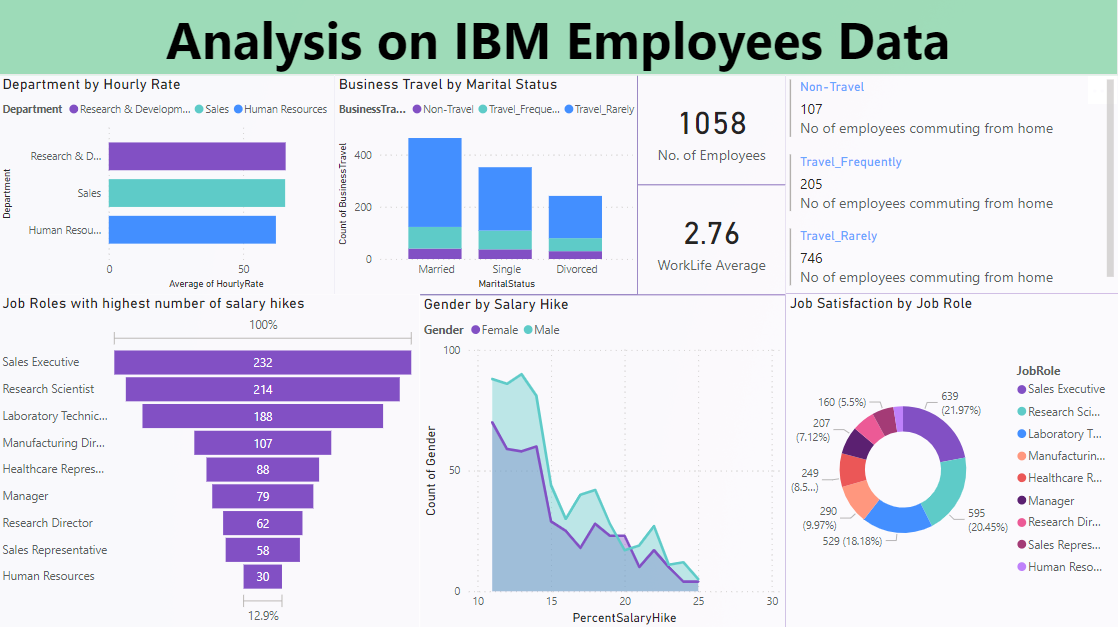

What the dashboard file says about the page in this screenshot:
{"tool":"powerbi","page":{"name":"Page 1","canvas":[1280,720],"ordinal":0},"visuals":[{"type":"textbox","box":[0,0,1280.3,87.8],"z":0},{"type":"multiRowCard","fields":{"Values":["train.BusinessTravel","CountNonNull(train.DistanceFromHome)"]},"box":[900.2,87.8,380.1,249.7],"z":1000},{"type":"card","fields":{"Values":["Sum(train.EmployeeCount)"]},"box":[731.4,87.8,168.8,124.9],"z":2000},{"type":"card","fields":{"Values":["Avg(train.WorkLifeBalance)"]},"box":[731.4,212.7,168.8,124.9],"z":3000},{"type":"columnChart","title":"Business Travel by Marital Status","fields":{"Category":["train.MaritalStatus"],"Y":["CountNonNull(train.BusinessTravel)"],"Series":["train.BusinessTravel"]},"box":[384.4,87.8,346.7,250],"z":4000},{"type":"barChart","title":"Department by Hourly Rate","fields":{"Category":["train.Department"],"Y":["Avg(train.HourlyRate)"],"Series":["train.Department"]},"box":[0,87.8,384.4,250],"z":5000},{"type":"funnel","title":"Job Roles with highest number of salary hikes","fields":{"Category":["train.JobRole"],"Y":["CountNonNull(train.PercentSalaryHike)"]},"box":[0,337.5,482.5,382.5],"z":6000},{"type":"areaChart","title":"Gender by Salary Hike","fields":{"Category":["train.PercentSalaryHike"],"Y":["CountNonNull(train.Gender)"],"Series":["train.Gender"]},"box":[482,338,418,382],"z":7000},{"type":"donutChart","title":"Job Satisfaction by Job Role","fields":{"Category":["train.JobRole"],"Y":["Sum(train.JobSatisfaction)"]},"box":[900,337.5,380,382.5],"z":7001}]}

Visuals, with their boxes in screenshot pixels (x1, y1, x2, y2), scaled from the page's 1280x720 canvas onto the 1118x627 screenshot:
textbox: left=0, top=0, right=1117, bottom=76
multiRowCard - train.BusinessTravel x CountNonNull(train.DistanceFromHome): left=786, top=76, right=1117, bottom=294
card - Sum(train.EmployeeCount): left=639, top=76, right=786, bottom=185
card - Avg(train.WorkLifeBalance): left=639, top=185, right=786, bottom=294
"Business Travel by Marital Status" columnChart: left=336, top=76, right=639, bottom=294
"Department by Hourly Rate" barChart: left=0, top=76, right=336, bottom=294
"Job Roles with highest number of salary hikes" funnel: left=0, top=294, right=421, bottom=626
"Gender by Salary Hike" areaChart: left=421, top=294, right=786, bottom=626
"Job Satisfaction by Job Role" donutChart: left=786, top=294, right=1117, bottom=626
